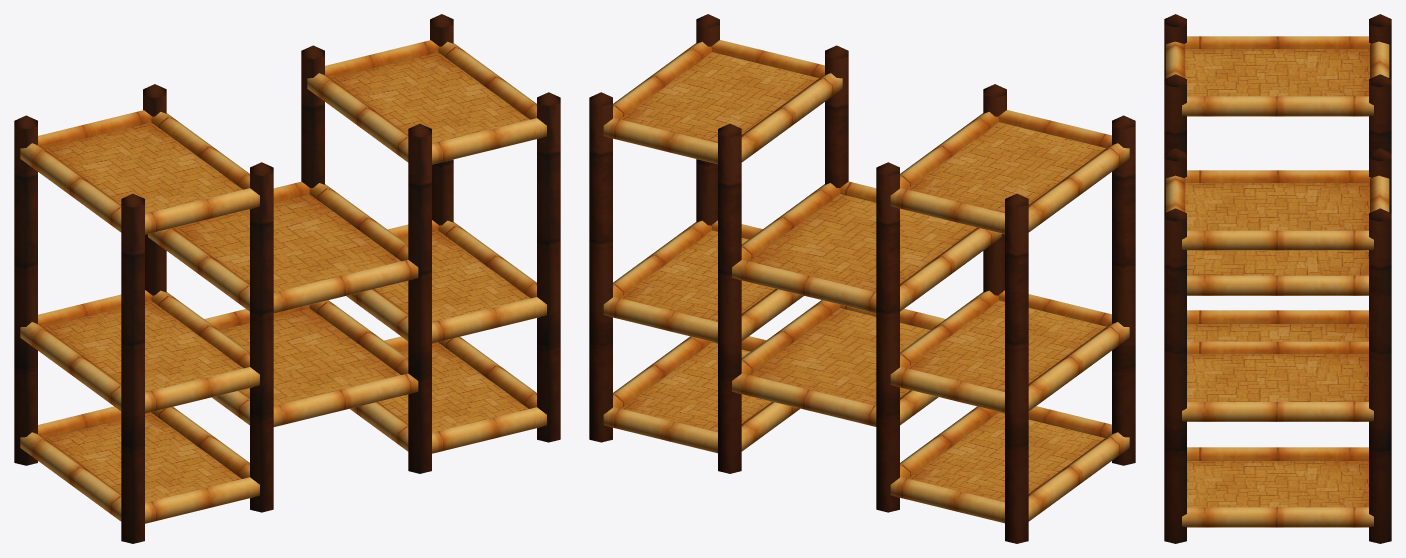
The model's file is Bamboo_Shelf_01.FBX.
3 renders of one model, left to right at view 1: azimuth 30°, elevation 25°; view 2: azimuth 150°, elevation 25°; view 3: azimuth 270°, elevation 25°, orthographic. The views are drawn at different scales.
Visible parts, largest first — view 1: Bamboo_Shelf_01; view 2: Bamboo_Shelf_01; view 3: Bamboo_Shelf_01.
Boxes of the visible parts, x1=… form: Bamboo_Shelf_01: x1=14, y1=14, x2=560, y2=543; Bamboo_Shelf_01: x1=589, y1=14, x2=1135, y2=543; Bamboo_Shelf_01: x1=1164, y1=14, x2=1391, y2=543.
Bounding box in the file's own units: 1.39 × 0.6501 × 1.04.
